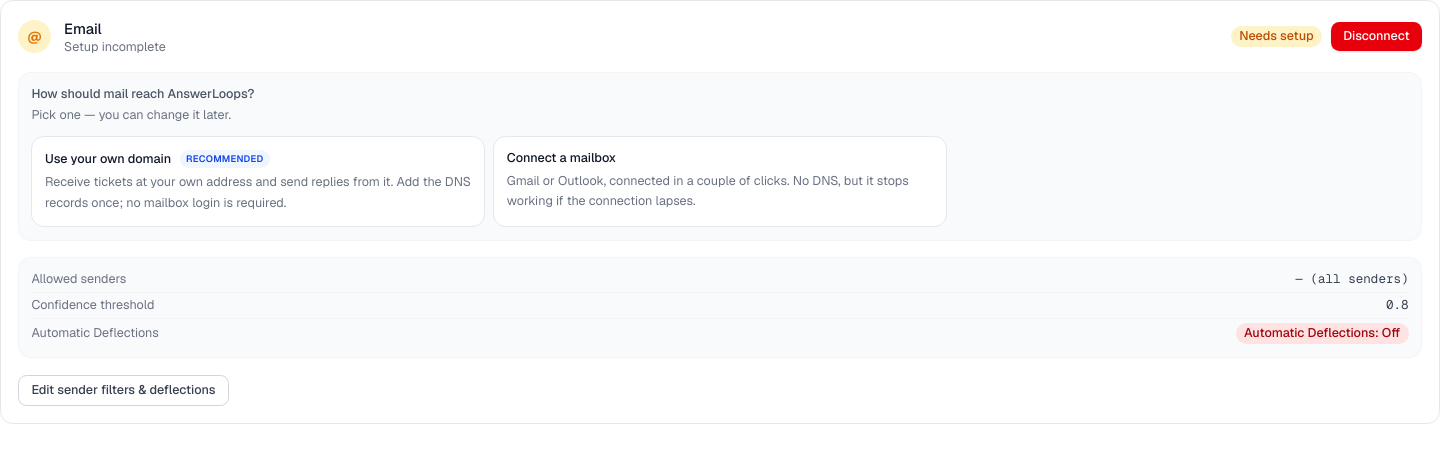
Scenario: EmailDeliverySection: the delivery-method chooser gates setup UI › shows the mailbox setup and not the domain form after choosing "Connect a mailbox"
Click the button "Connect a mailbox" at (720, 182), box [493,136,947,227]
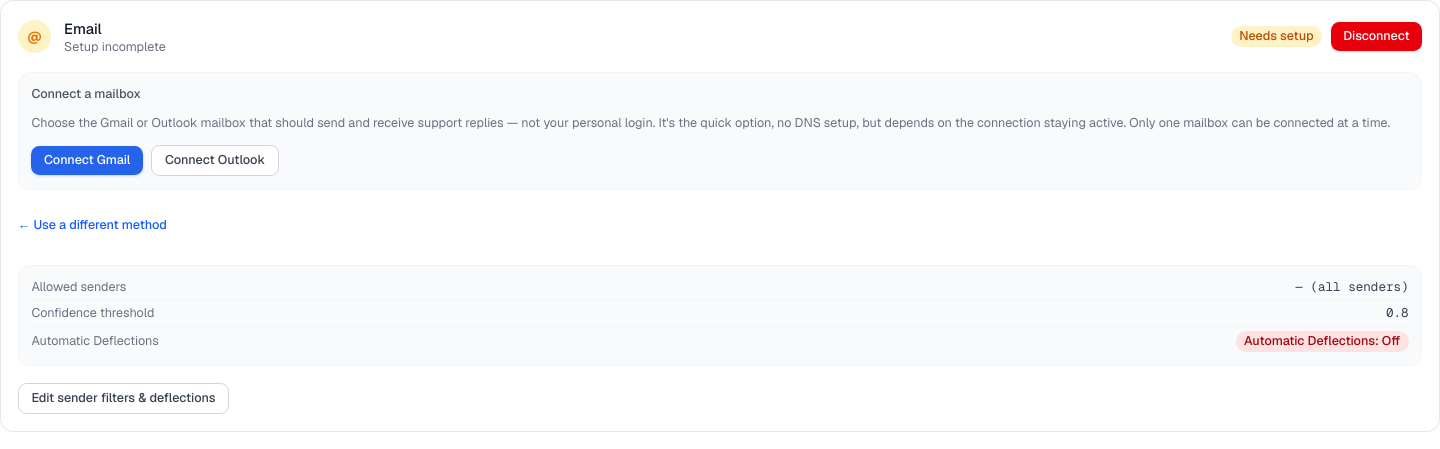
Expected: the button "Connect Gmail" is shown, [31,146,143,175]
Expected: the button "Connect Outlook" is shown, [151,145,279,176]
